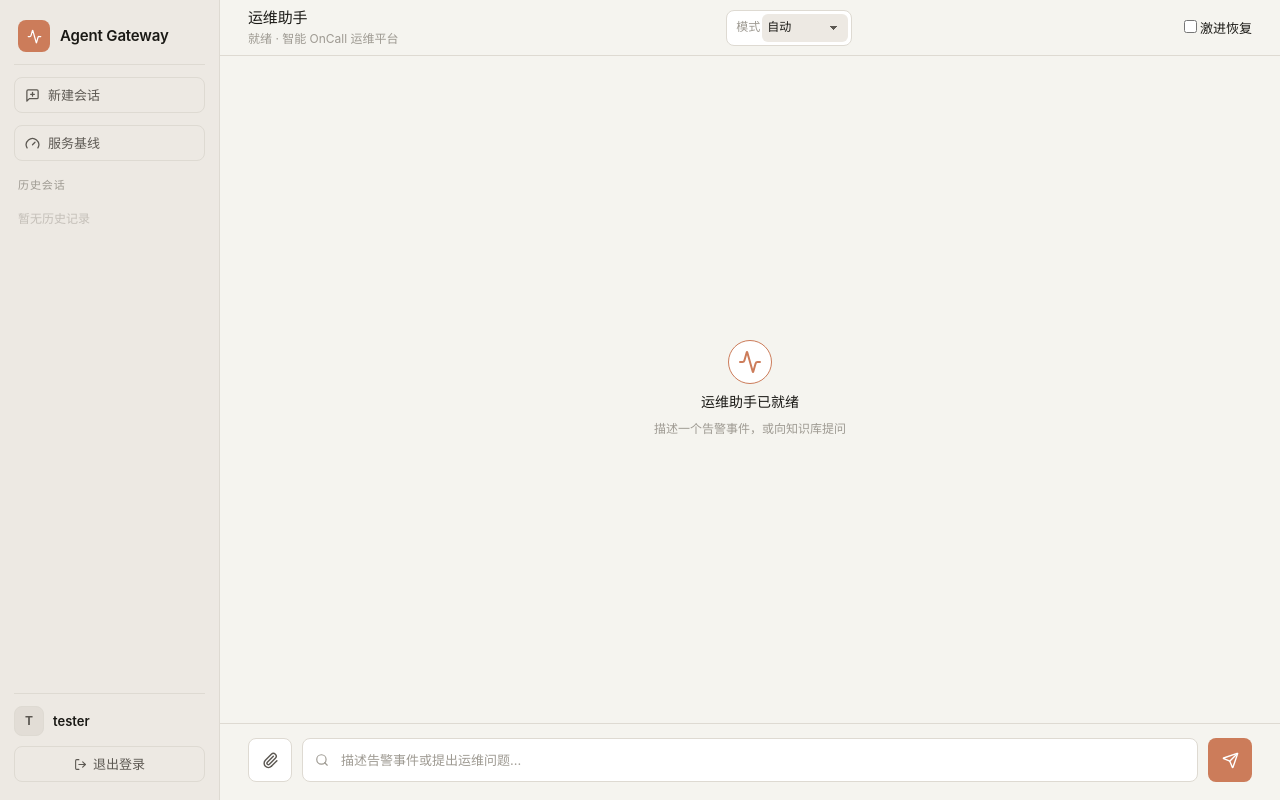
Test case: App › restores the aggregate inline activity card with the granular flag off
The image size is (1280, 800).
Type "checkout-api slow" into the field named "消息" at [750, 760], box [302,738,1198,782]
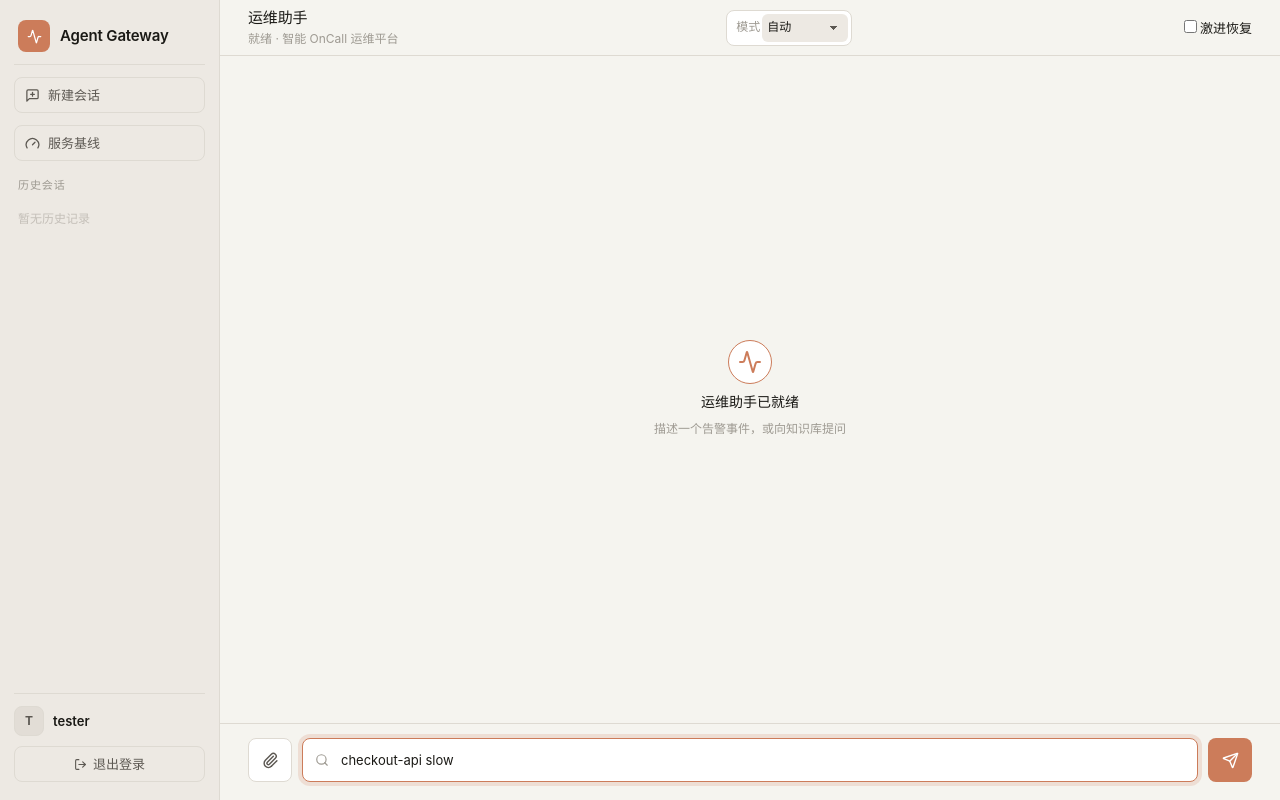
Click the button named "发送" at [1230, 760], box [1208,738,1252,782]
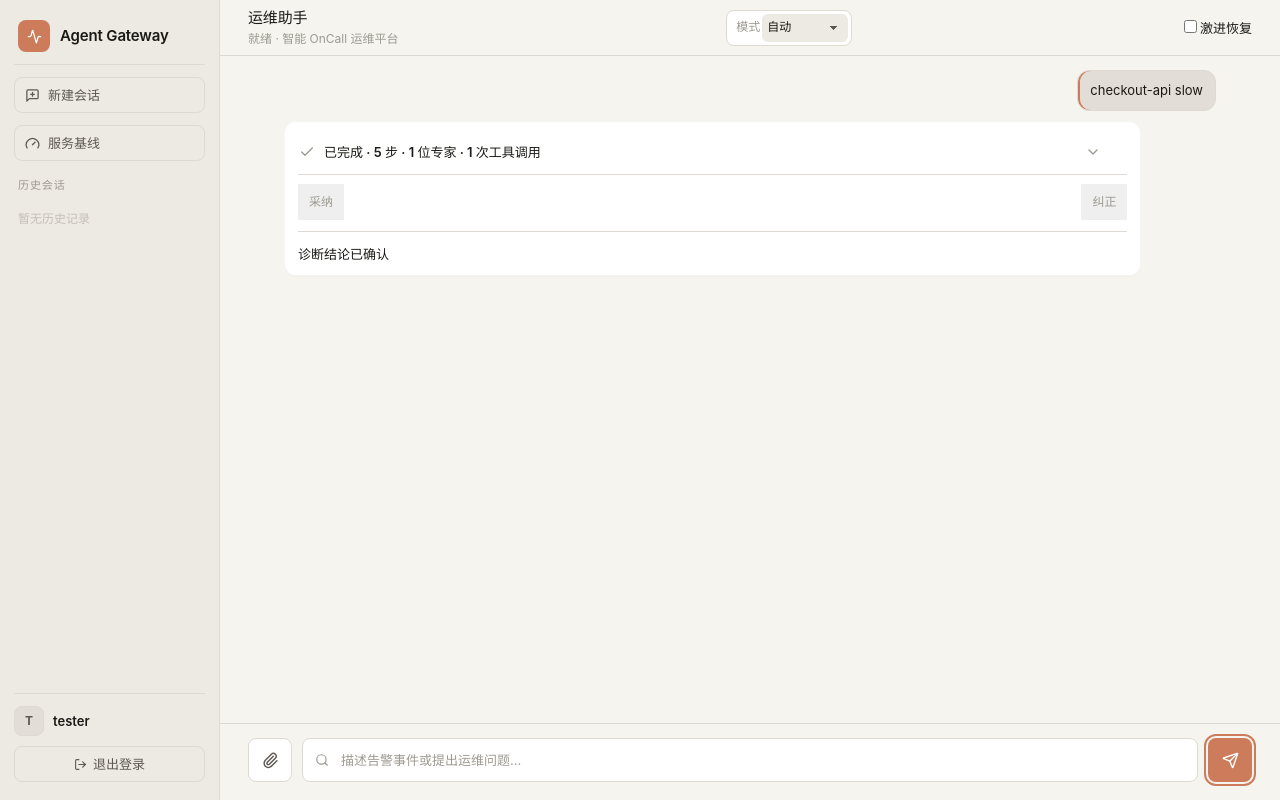
Now the button "已完成 · 5 步 · 1 位专家 · 1 次工具调用" is shown, box [298,130,1127,174]
